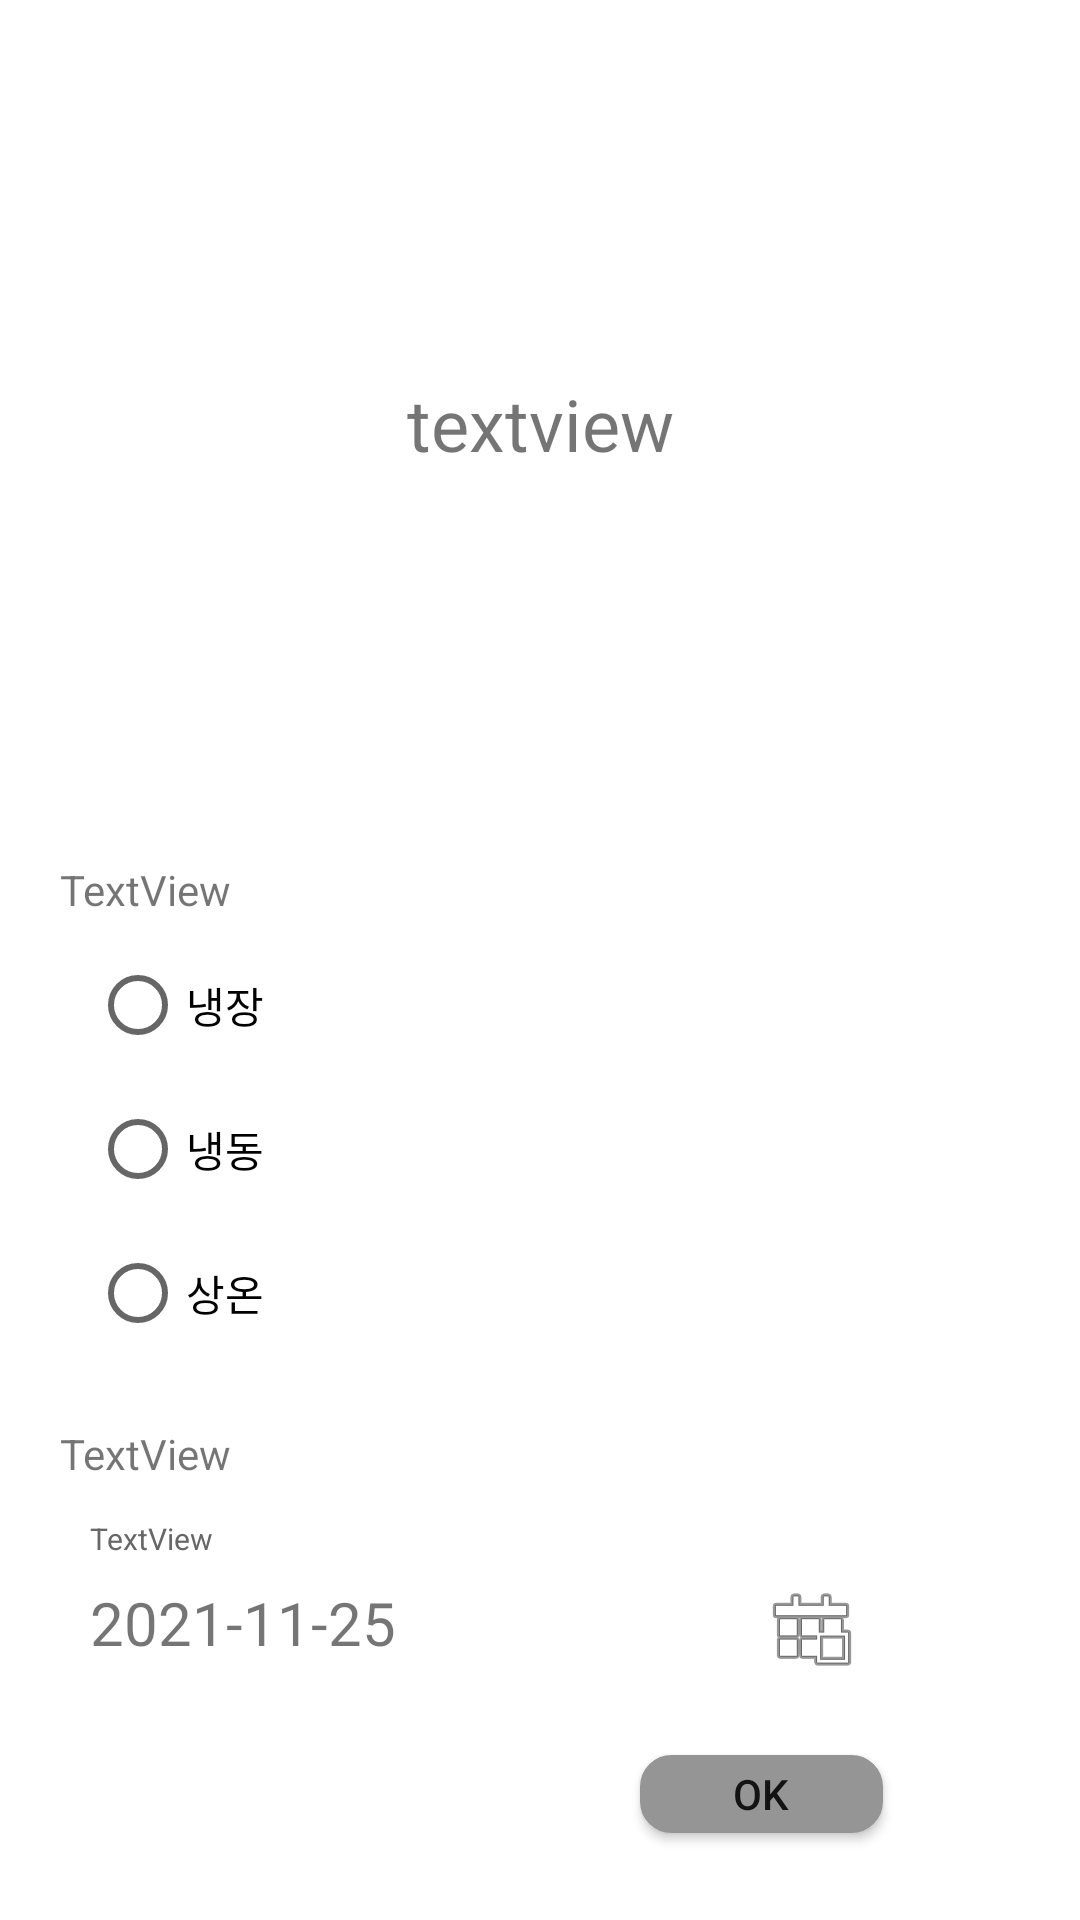

Icon bounding boxes for this 1080×1920 phone screenshot, format (x1, y1, x2, y2):
유통기한 마지막 날 선택: (773, 1593, 851, 1666)
